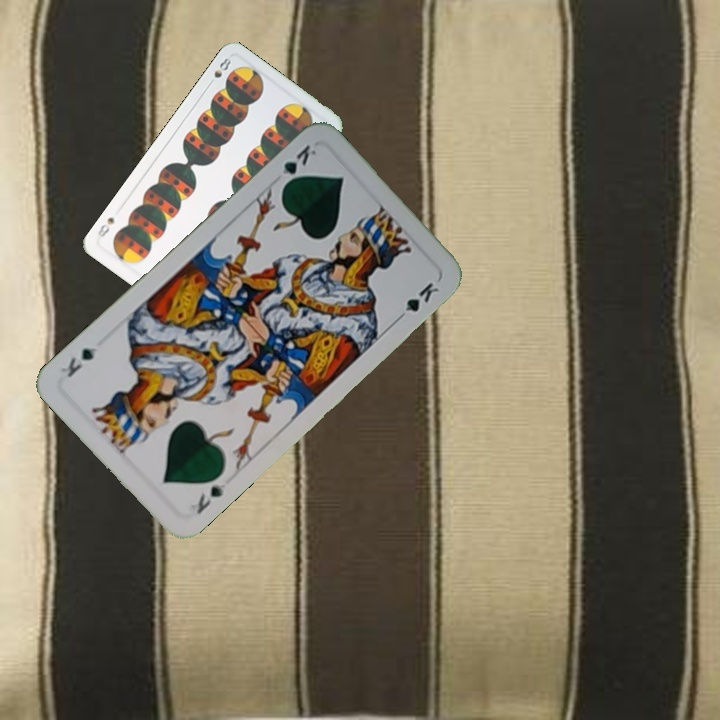GK: (277, 140, 319, 191), (192, 478, 229, 517)
S8: (204, 54, 234, 89)
